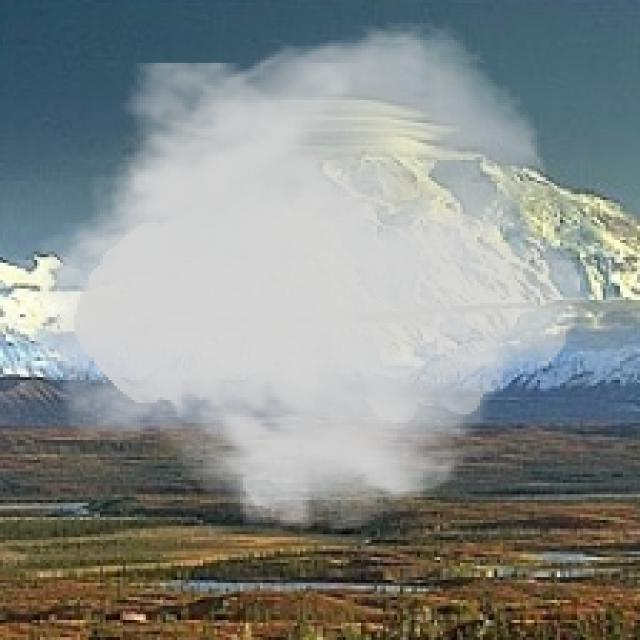smoke: (17, 17, 583, 537)
